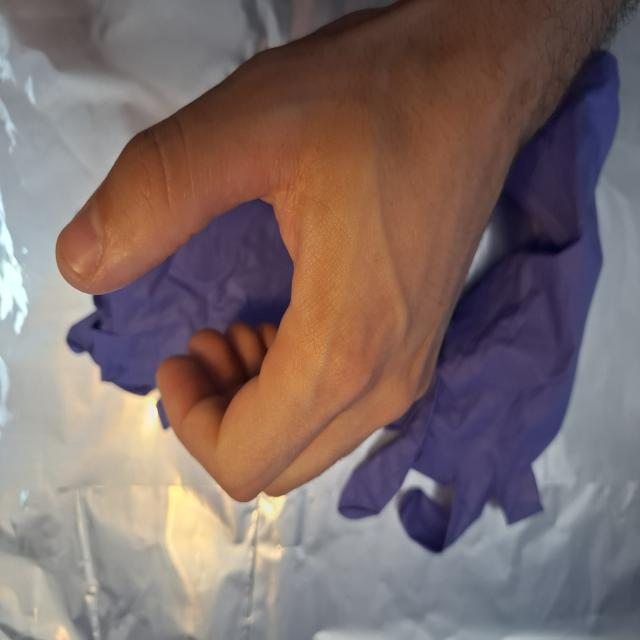glove_off: (54, 3, 524, 506)
